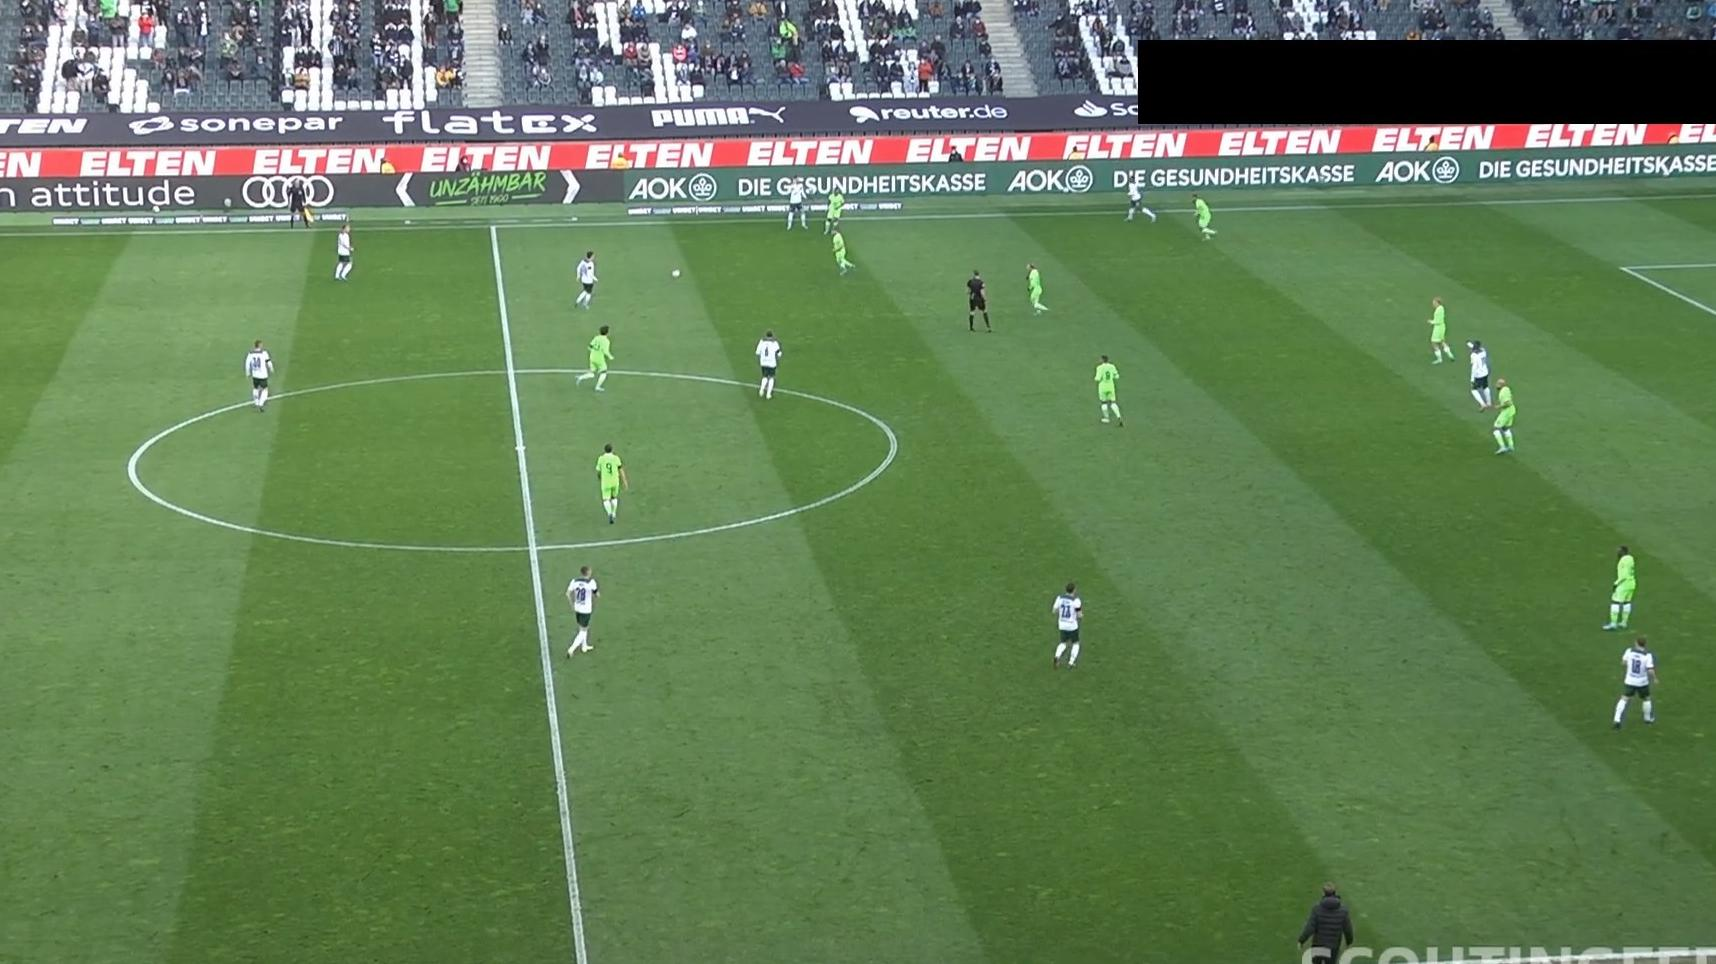ball: (671, 268, 682, 278)
